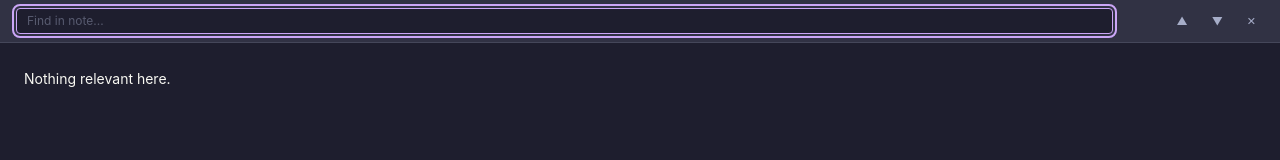
MarkdownRenderer › shows an explicit zero-count for queries without matches
The image size is (1280, 160).
Type "missing-word" into the field with placeholder "Find in note..." at (564, 21), box 16,8 -> 1112,34
Wait 200 ms
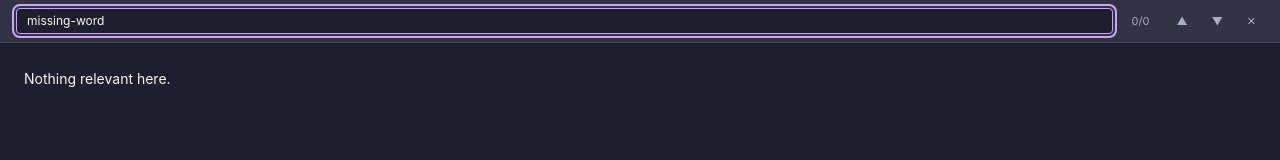
Expected: the text with class "min-w-" reads "0/0", 1132,14 -> 1149,28
